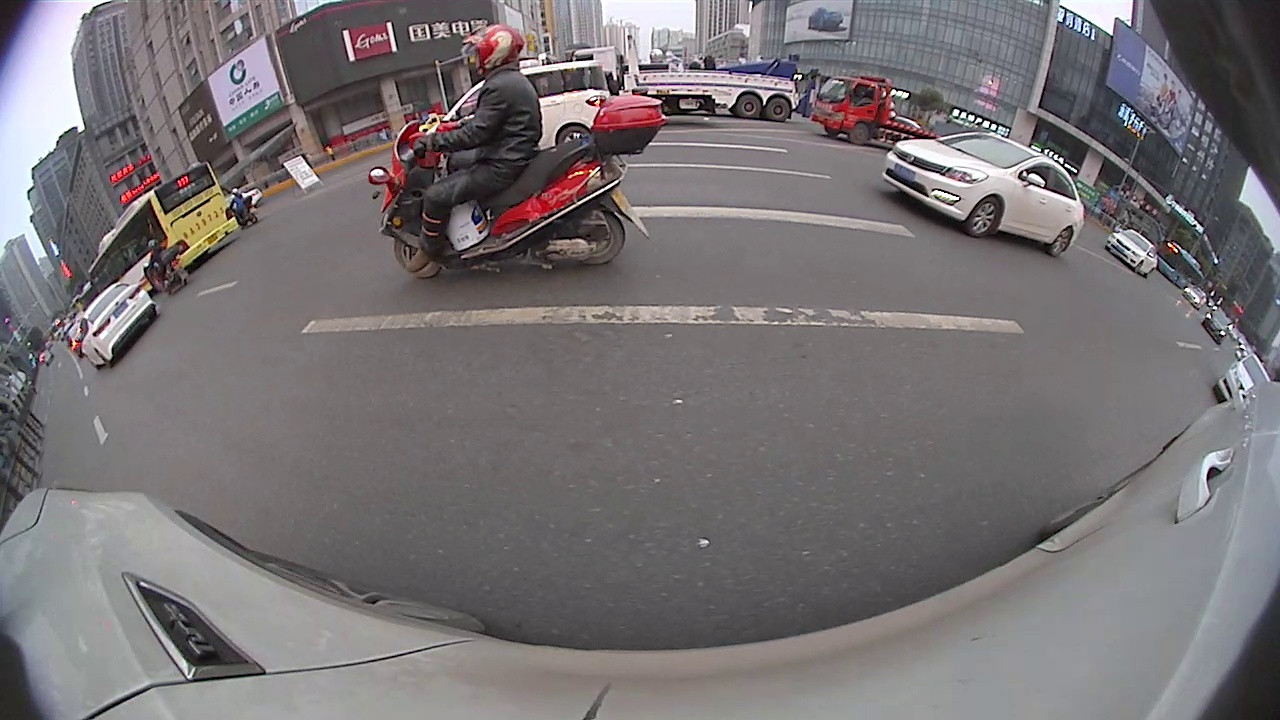bus: (86, 157, 241, 302)
car: (887, 124, 1092, 262), (423, 63, 619, 194), (71, 277, 162, 371), (1217, 353, 1276, 414), (1108, 226, 1162, 276)
front: (393, 237, 442, 280), (967, 194, 1000, 240), (847, 118, 872, 148)
rear: (574, 209, 627, 268), (1045, 226, 1072, 260), (763, 95, 793, 124)
rider: (379, 23, 664, 280), (140, 236, 190, 300)
truck: (563, 40, 804, 129), (812, 68, 963, 153)
